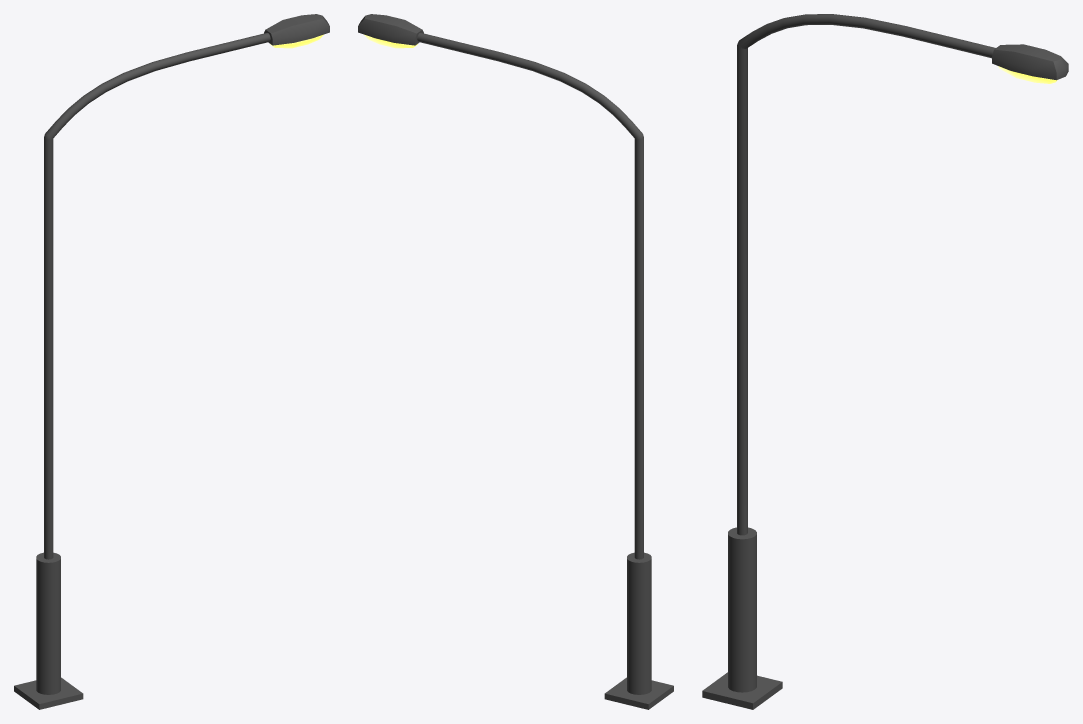
File: Street_Modern_L.fbx
3 renders of one model, left to right at view 1: azimuth 30°, elevation 25°; view 2: azimuth 150°, elevation 25°; view 3: azimuth 330°, elevation 25°, orthographic. The views are drawn at different scales.
Visible parts, largest first — view 1: Street_Modern_L_LOD0; view 2: Street_Modern_L_LOD0; view 3: Street_Modern_L_LOD0.
Boxes of the visible parts, x1,y1,x2,y2 form: Street_Modern_L_LOD0: [14, 14, 329, 709]; Street_Modern_L_LOD0: [358, 14, 673, 709]; Street_Modern_L_LOD0: [702, 14, 1068, 709].
Size of what is drawn, in the model's own units: 274 by 535 by 40.
